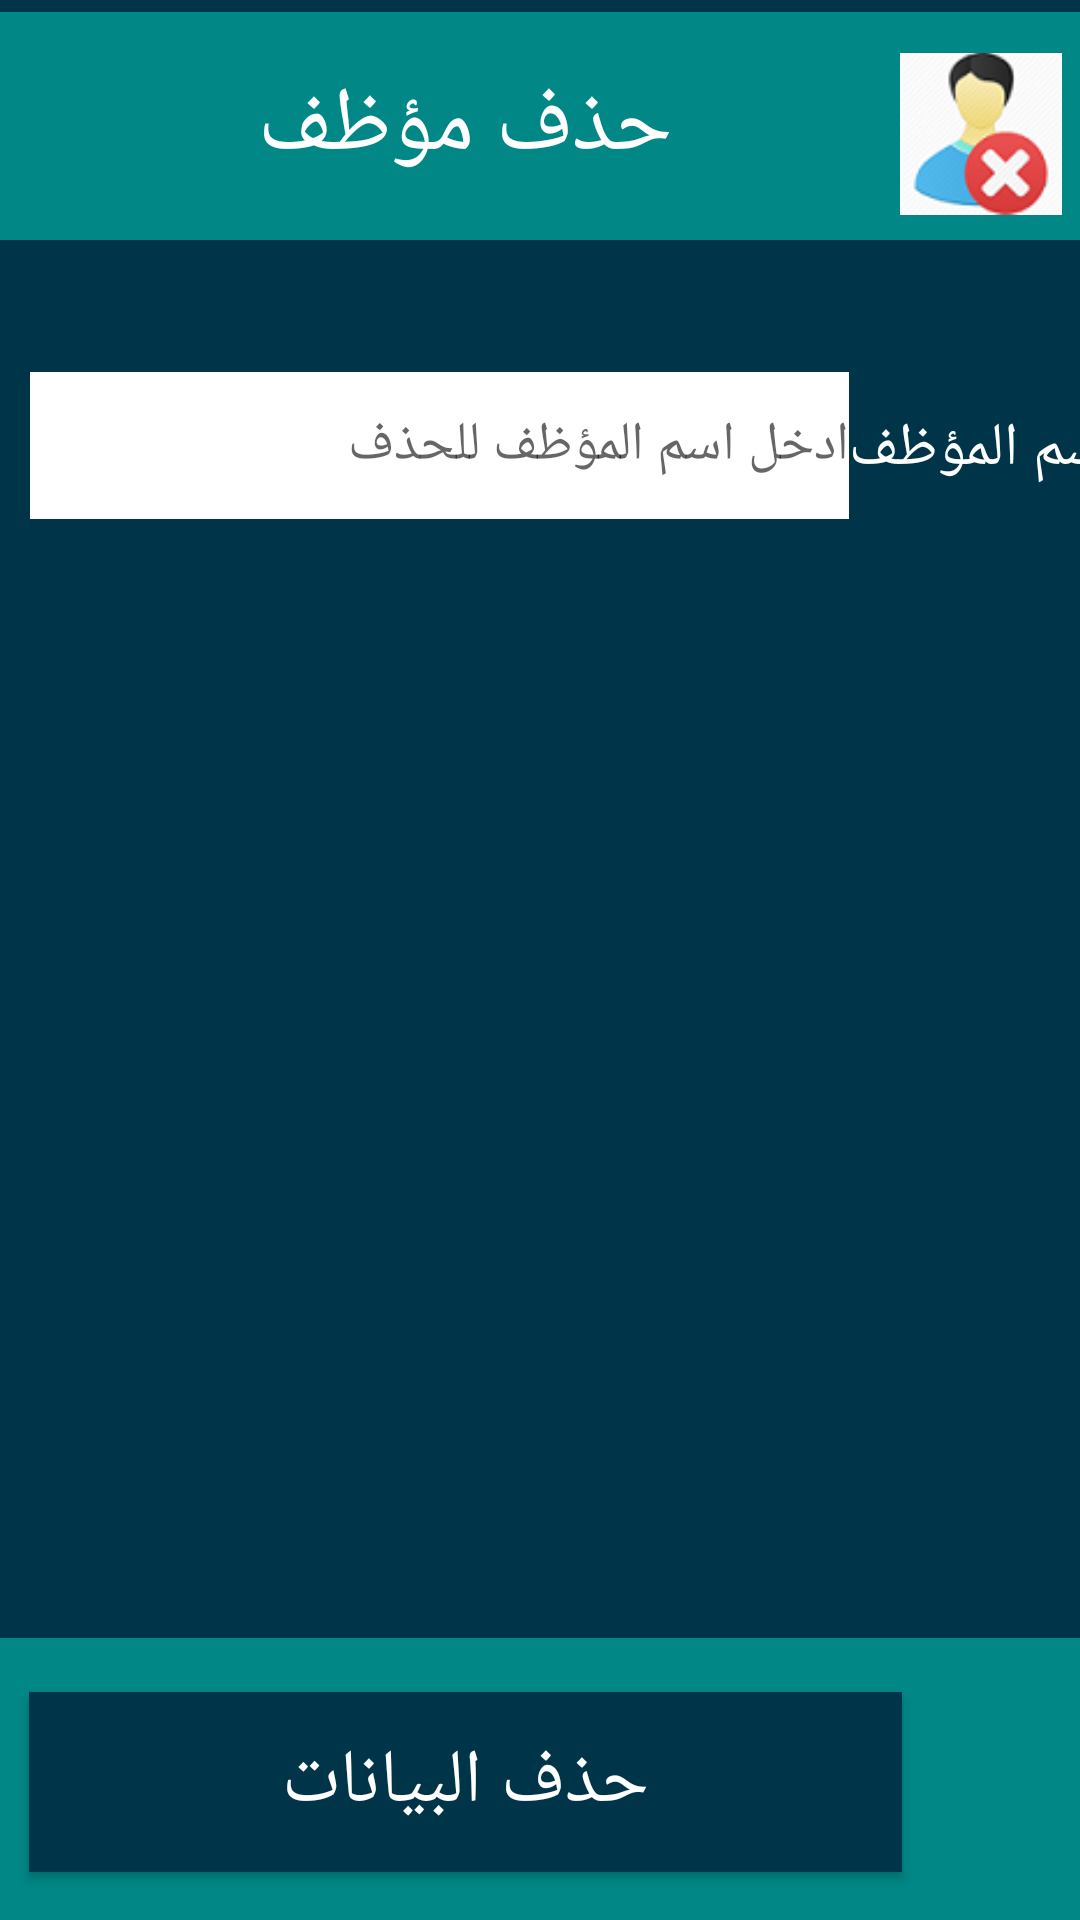

Screen size 1080×1920. Icon name, then its box in pixels as (x1, y1, x2, y2):
delete: (900, 53, 1062, 215)
